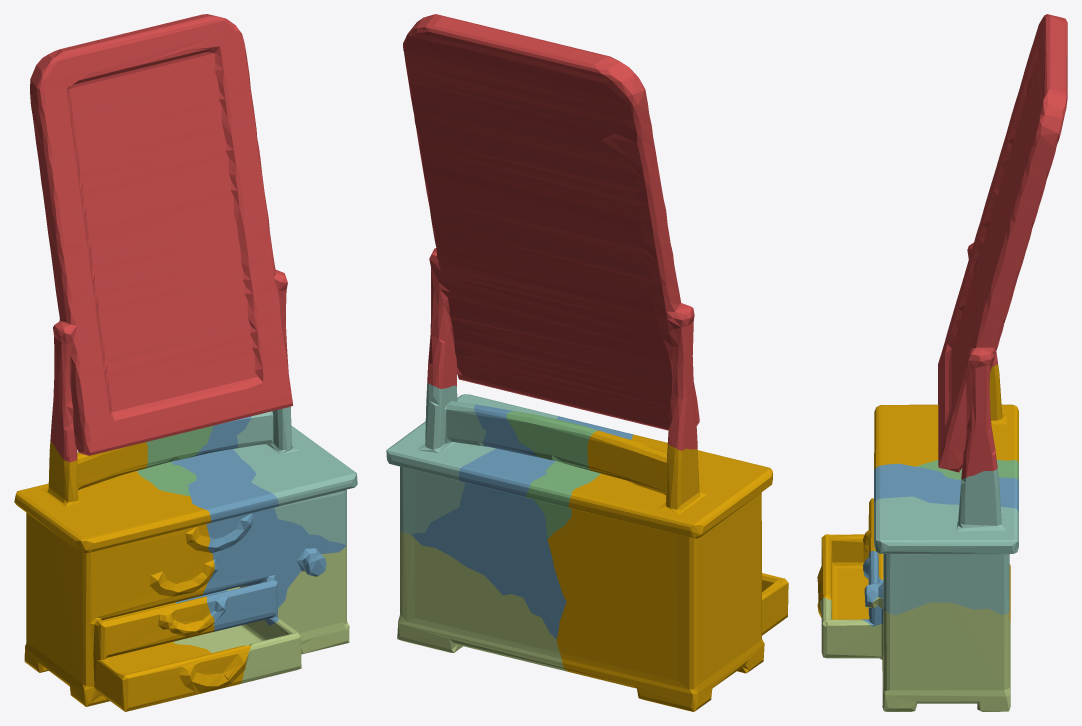
File: fractured_29_6pcs.glb
3 renders of one model, left to right at view 1: azimuth 30°, elevation 25°; view 2: azimuth 150°, elevation 25°; view 3: azimuth 270°, elevation 25°, orthographic. The views are drawn at different scales.
Parts seen in each view (by area): view 1: piece_1.obj, piece_0.obj, piece_2.obj, piece_4.obj, piece_5.obj, piece_3.obj; view 2: piece_1.obj, piece_0.obj, piece_2.obj, piece_5.obj, piece_4.obj, piece_3.obj; view 3: piece_1.obj, piece_4.obj, piece_5.obj, piece_0.obj, piece_2.obj, piece_3.obj.
Boxes of the visible parts, x1=… form: piece_1.obj: x1=30, y1=14, x2=293, y2=462; piece_0.obj: x1=14, y1=441, x2=251, y2=711; piece_2.obj: x1=171, y1=416, x2=345, y2=631; piece_4.obj: x1=233, y1=406, x2=357, y2=545; piece_5.obj: x1=173, y1=545, x2=349, y2=683; piece_3.obj: x1=137, y1=425, x2=213, y2=496; piece_1.obj: x1=403, y1=14, x2=699, y2=450; piece_0.obj: x1=547, y1=430, x2=788, y2=711; piece_2.obj: x1=411, y1=404, x2=633, y2=639; piece_5.obj: x1=397, y1=531, x2=566, y2=671; piece_4.obj: x1=386, y1=383, x2=558, y2=533; piece_3.obj: x1=506, y1=411, x2=600, y2=539; piece_1.obj: x1=938, y1=14, x2=1067, y2=478; piece_4.obj: x1=874, y1=467, x2=1018, y2=615; piece_5.obj: x1=820, y1=597, x2=1010, y2=711; piece_0.obj: x1=817, y1=364, x2=1018, y2=622; piece_2.obj: x1=862, y1=463, x2=1018, y2=626; piece_3.obj: x1=916, y1=459, x2=1018, y2=481.
Size of the model in its own units: 0.502 by 1 by 0.3814.
